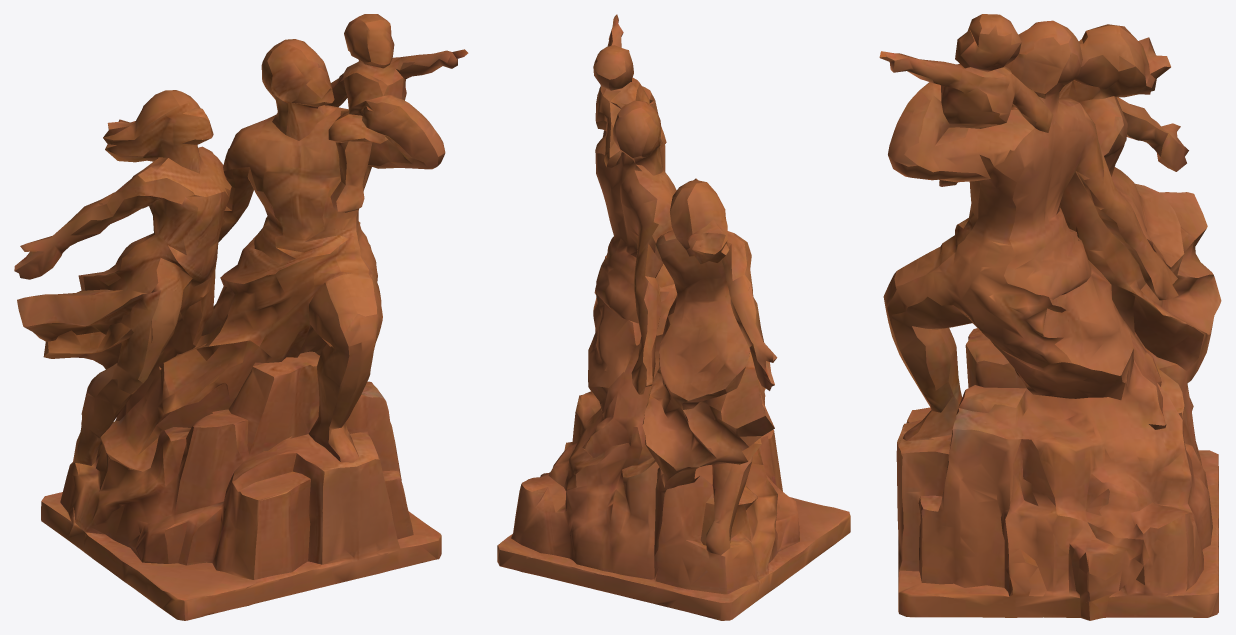
File: african-renaissance-monument.glb
The picture shows the model from 3 angles, left to right: view 1: azimuth 30°, elevation 25°; view 2: azimuth 150°, elevation 25°; view 3: azimuth 270°, elevation 25°; orthographic projection. The views are drawn at different scales.
Parts seen in each view (by area): view 1: logan-textured.obj; view 2: logan-textured.obj; view 3: logan-textured.obj.
Part boxes in pixels (x1,y1,x2,y2): logan-textured.obj: (14,14,468,620); logan-textured.obj: (497,14,850,620); logan-textured.obj: (879,14,1221,620).
Size of the model in its own units: 0.6407 by 1 by 0.5331.
1 material, 1 textured.
